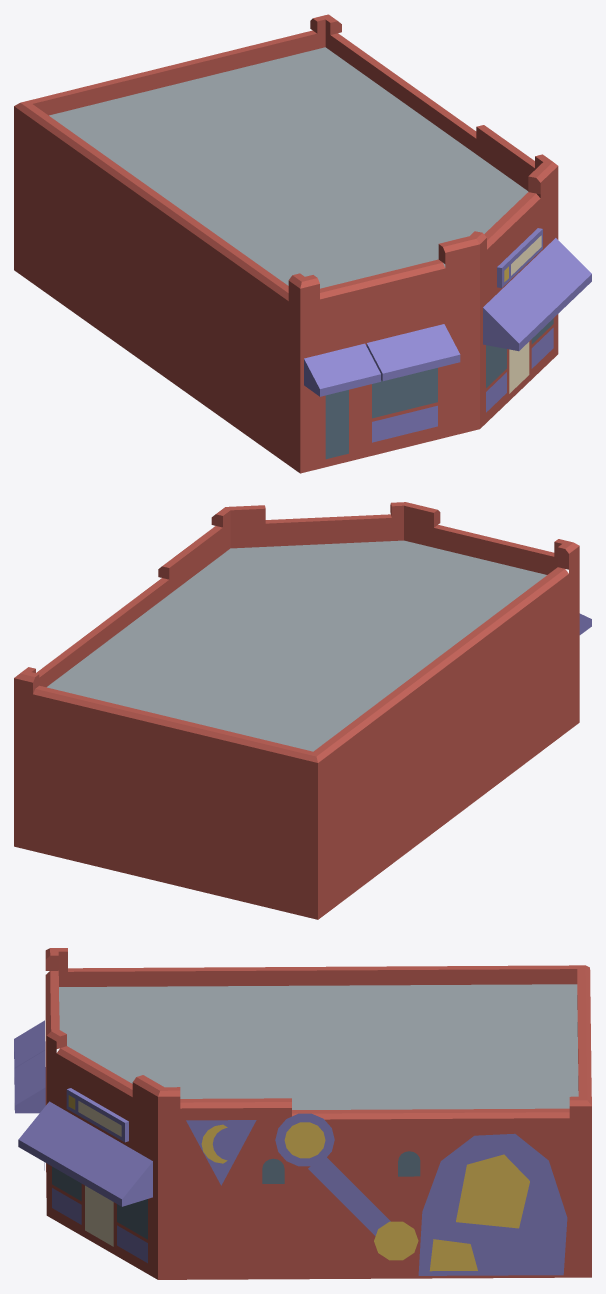
Rendered from evening-muse.glb.
3 renders of one model, top to bottom at view 1: azimuth 30°, elevation 25°; view 2: azimuth 150°, elevation 25°; view 3: azimuth 270°, elevation 25°, orthographic. The views are drawn at different scales.
Parts seen in each view (by area): view 1: The Evening Muse; view 2: The Evening Muse; view 3: The Evening Muse.
Part boxes in pixels (<box>): The Evening Muse: <box>14,14,591,473</box>; The Evening Muse: <box>14,502,591,919</box>; The Evening Muse: <box>14,948,591,1279</box>.
Bounding box in the file's own units: 10.18 × 5.55 × 15.53.
